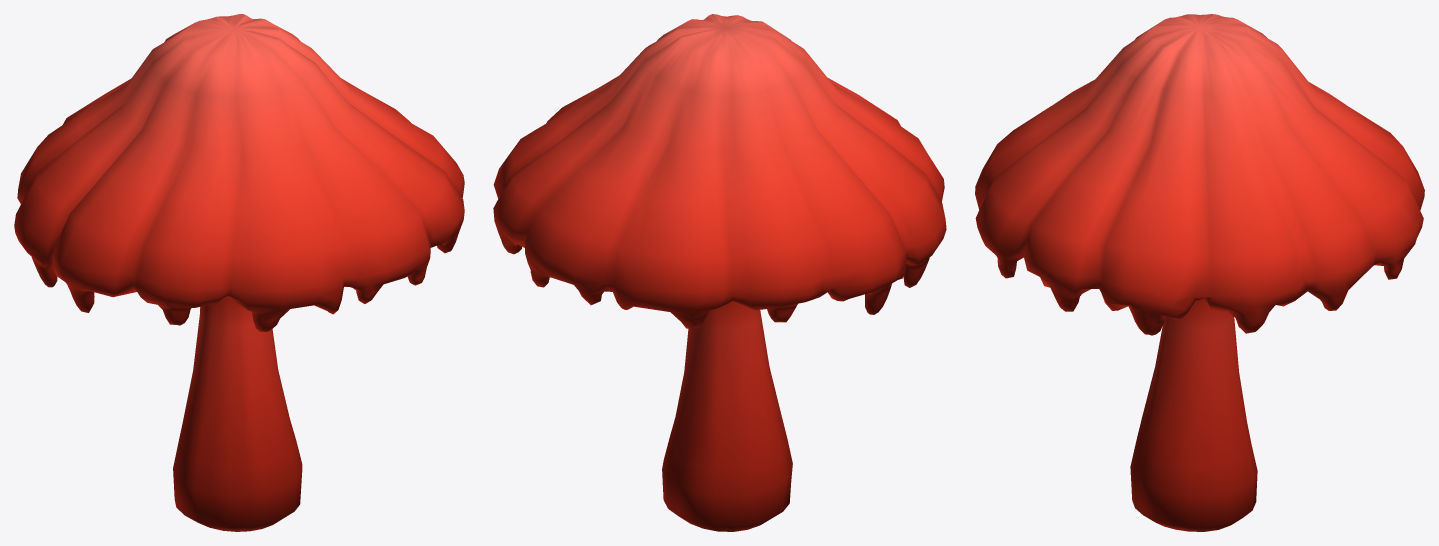
File: Mushroom_0001_0014.fbx
The picture shows the model from 3 angles, left to right: view 1: azimuth 30°, elevation 25°; view 2: azimuth 150°, elevation 25°; view 3: azimuth 270°, elevation 25°; orthographic projection.
Visible parts, largest first — view 1: Mushroom_0001_0014; view 2: Mushroom_0001_0014; view 3: Mushroom_0001_0014.
Boxes of the visible parts, x1,y1,x2,y2 form: Mushroom_0001_0014: [14, 14, 464, 531]; Mushroom_0001_0014: [493, 14, 946, 531]; Mushroom_0001_0014: [975, 14, 1424, 531].
Bounding box in the file's own units: 0.2618 × 0.3091 × 0.2585.
Materials: 1 (1 with a texture image).
